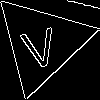V: (16, 18, 61, 70)
